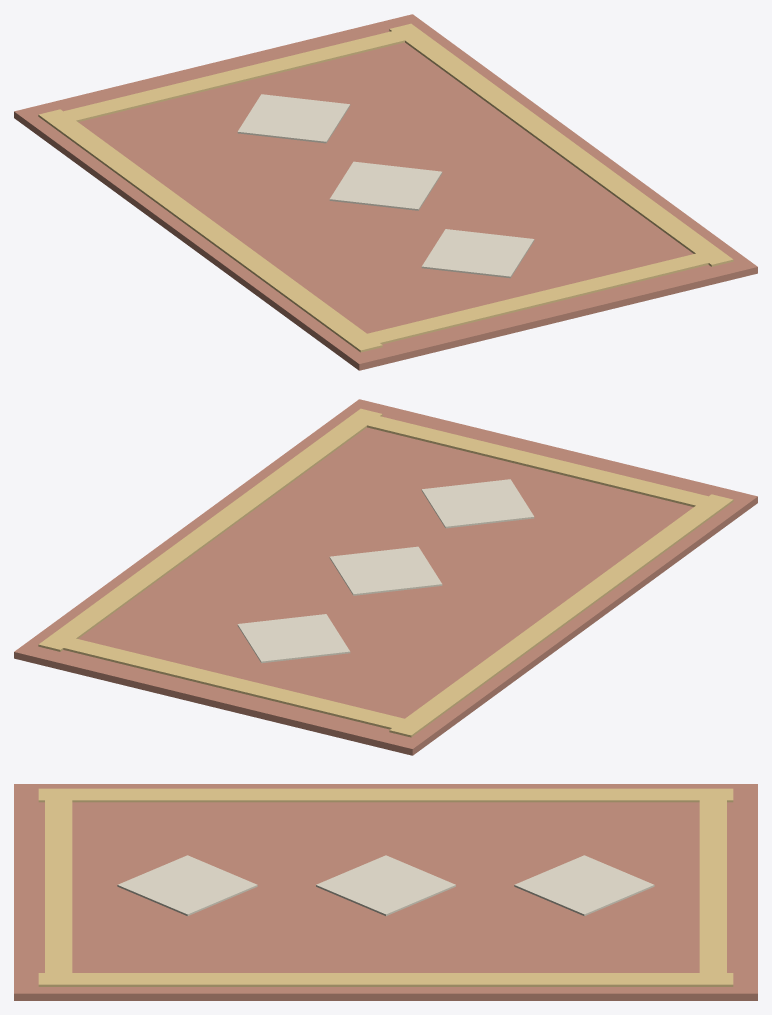
The model's file is rug.glb.
The picture shows the model from 3 angles, top to bottom: view 1: azimuth 30°, elevation 25°; view 2: azimuth 150°, elevation 25°; view 3: azimuth 270°, elevation 25°; orthographic projection. The views are drawn at different scales.
Parts seen in each view (by area): view 1: rug; view 2: rug; view 3: rug.
Boxes of the visible parts, box(x1,y1,x2,y2) form: rug: box(14, 14, 757, 370); rug: box(14, 399, 757, 755); rug: box(14, 784, 757, 1000).
Bounding box in the file's own units: 1 × 0.025 × 1.5.
